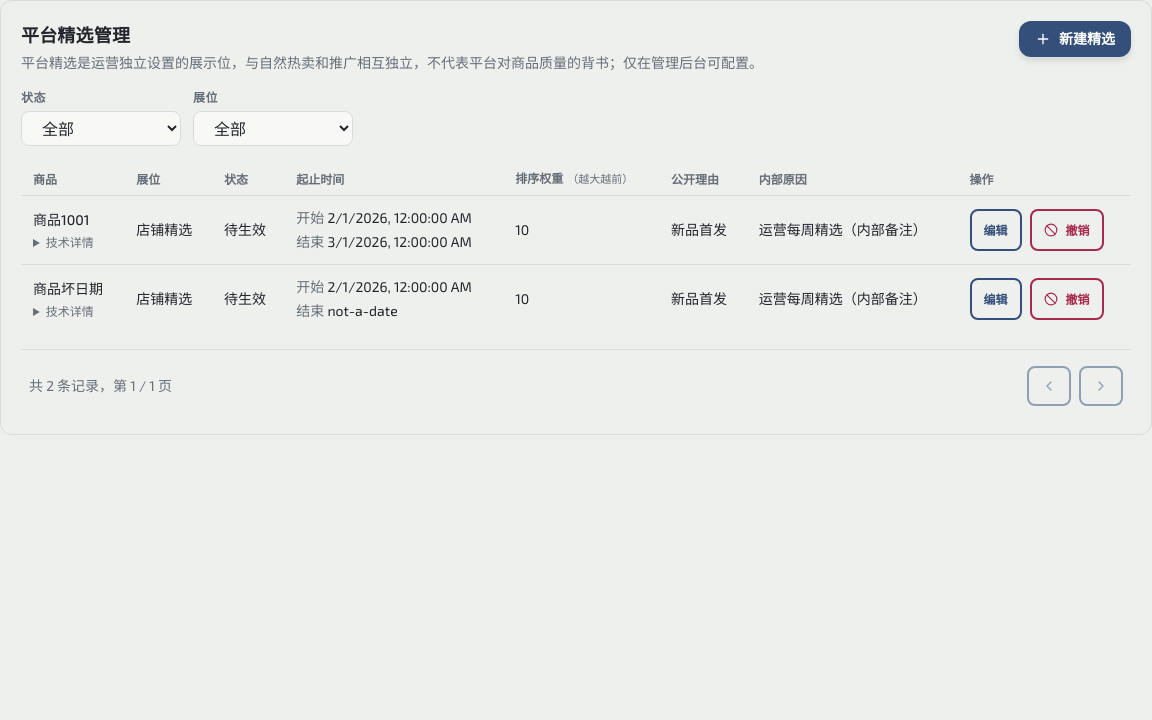
AdminEditorialManager edit (T-MERCH-FE-003 §edit) › shows the unparseable-date error for the fields that cannot be parsed
The width and height of the screenshot is (1152, 720).
Expected: the table named "平台精选列表" is shown, 21,162 -> 1131,333
Click the button "编辑" in the row of "商品坏日期" at (996, 299), box 970,278 -> 1022,320
(page scrolled)
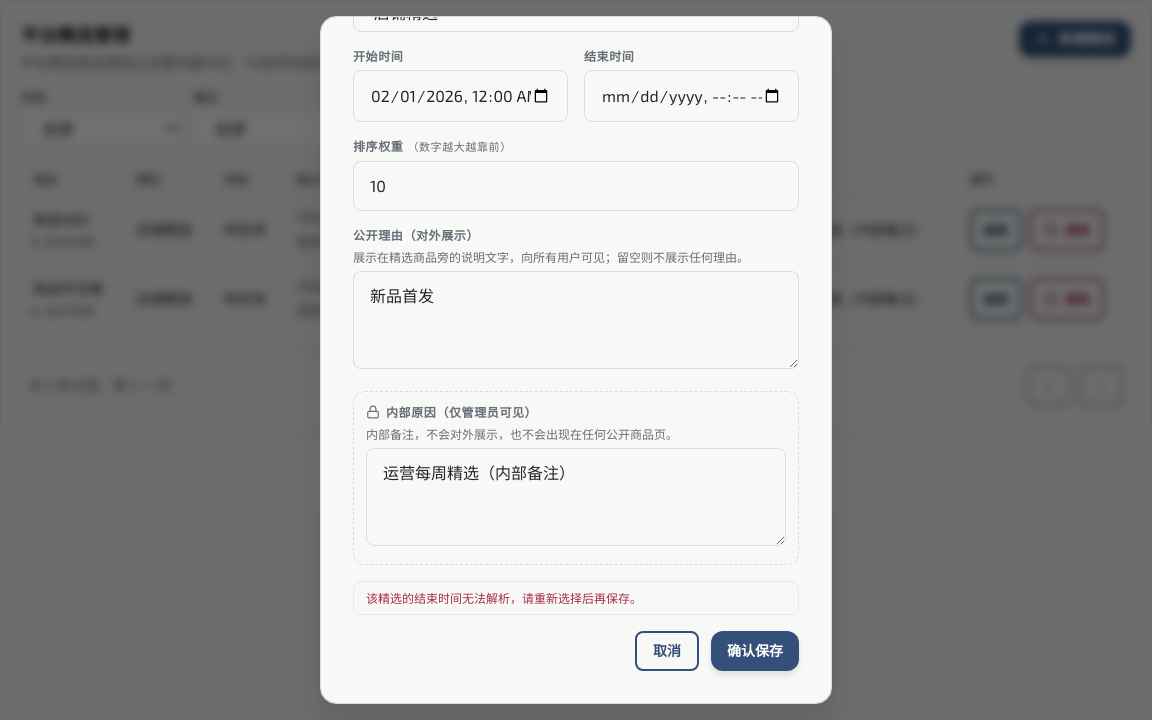
Expected: the message reads "该精选的结束时间无法解析，请重新选择后再保存。", 366,591 -> 642,605
Expected: the field labelled "开始时间" holds "2026-02-01T00:00", 353,70 -> 568,122
Expected: the field labelled "结束时间" is empty, 584,70 -> 799,122
Click the button "取消" at (667, 651), box 635,631 -> 699,671
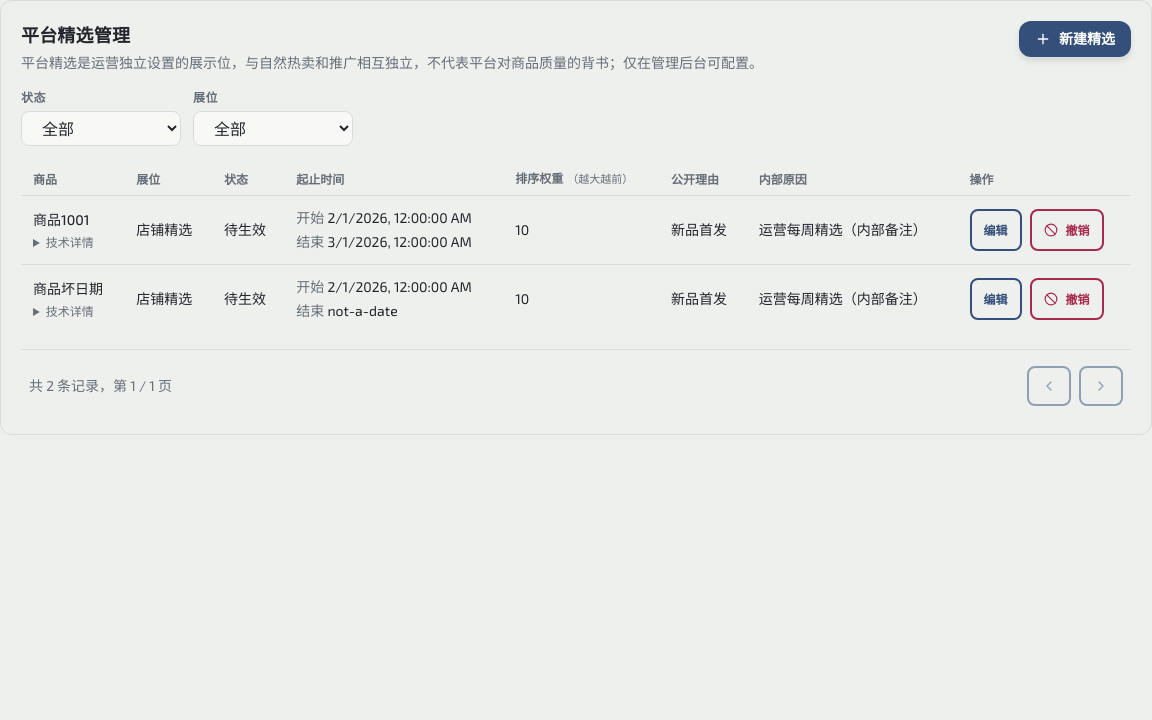
Expected: the dialog is gone
Click the button "编辑" in the row of "商品1001" at (996, 230), box 970,209 -> 1022,251
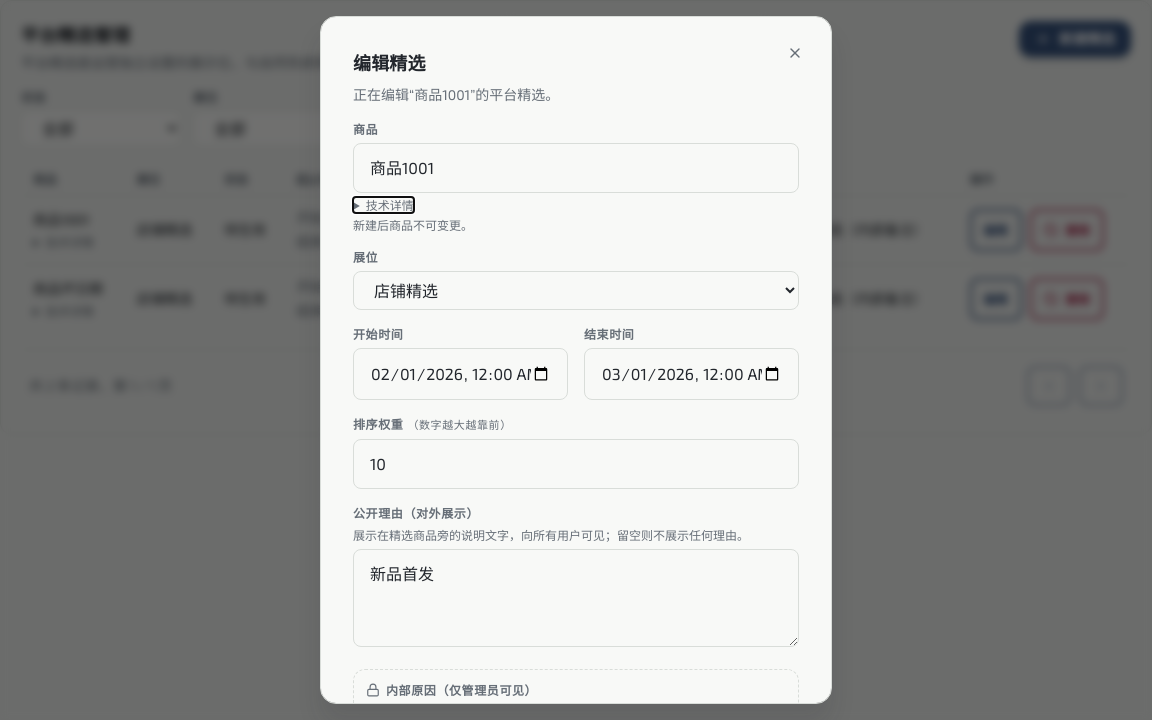
Expected: the message "该精选的结束时间无法解析，请重新选择后再保存。" is not shown
Expected: the field labelled "开始时间" holds "2026-02-01T00:00", 353,348 -> 568,400
